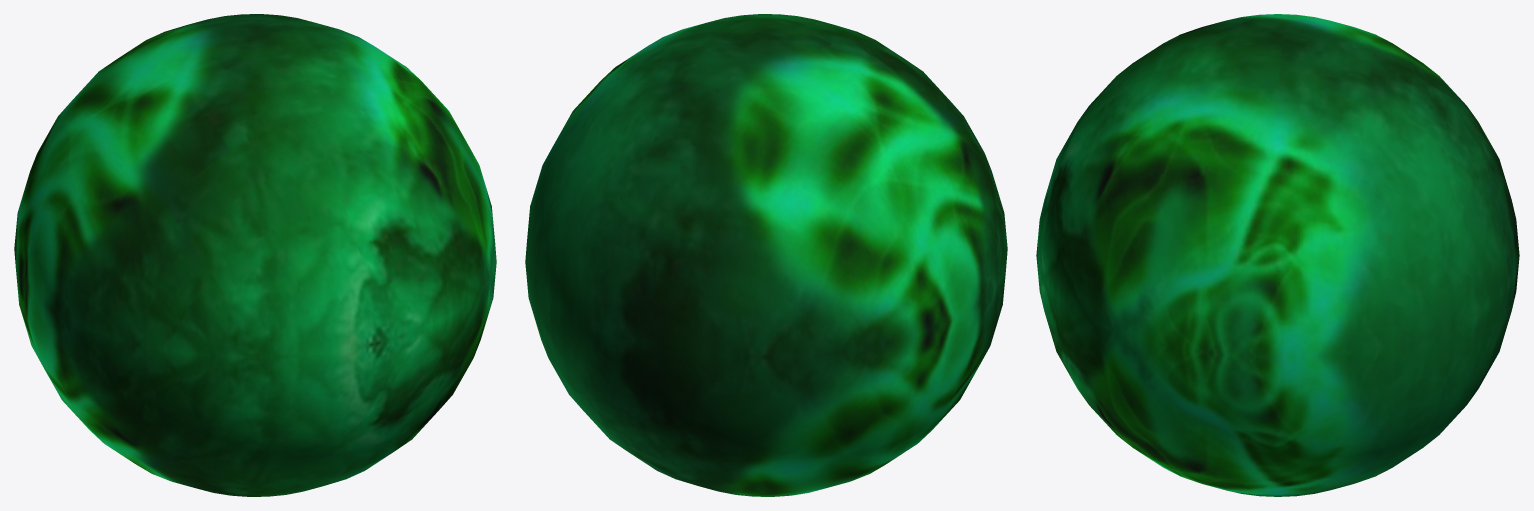
File: Toxic_planet_2.FBX
3 renders of one model, left to right at view 1: azimuth 30°, elevation 25°; view 2: azimuth 150°, elevation 25°; view 3: azimuth 270°, elevation 25°, orthographic.
Visible parts, largest first — view 1: Toxic_planet_2; view 2: Toxic_planet_2; view 3: Toxic_planet_2.
Part boxes in pixels (x1,y1,x2,y2): Toxic_planet_2: [14, 14, 496, 496]; Toxic_planet_2: [525, 14, 1007, 496]; Toxic_planet_2: [1036, 14, 1519, 496].
Bounding box in the file's own units: 69.73 × 69.73 × 69.73.
